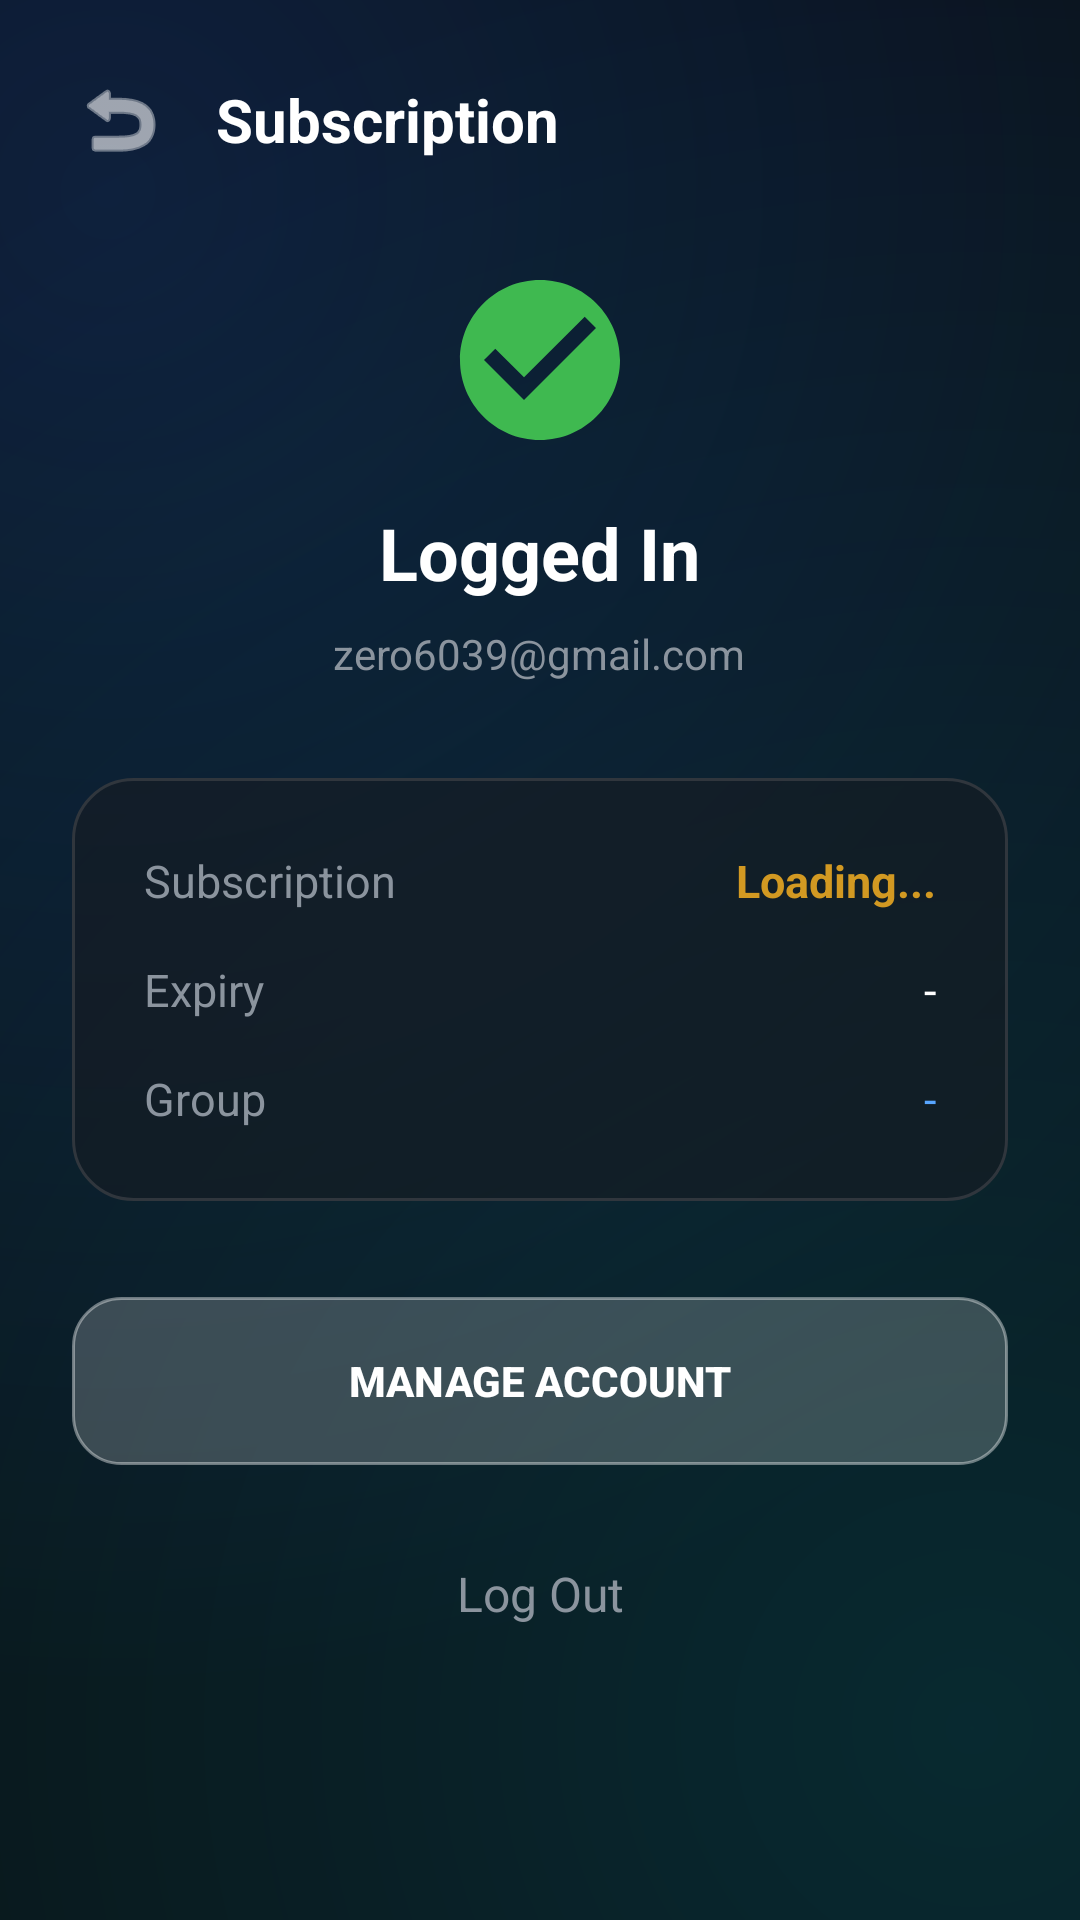

Where icons sit on this 1080px×1920px app screen, as [x1, y1, x2, y2]:
check circle: [460, 280, 620, 440]
revert: [87, 89, 156, 152]
